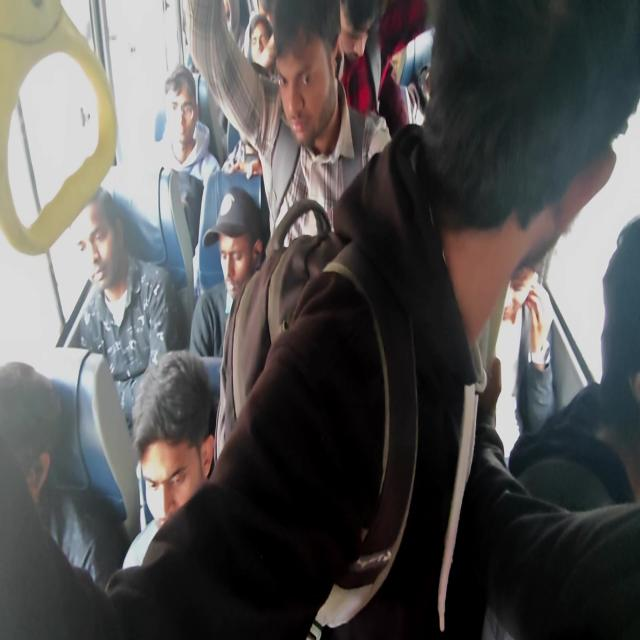person: (432, 14, 602, 289), (135, 378, 218, 546), (62, 144, 141, 295), (0, 379, 61, 570), (595, 277, 640, 504), (274, 8, 336, 142), (210, 195, 259, 313), (161, 65, 209, 164), (347, 0, 377, 64), (250, 23, 276, 82)
